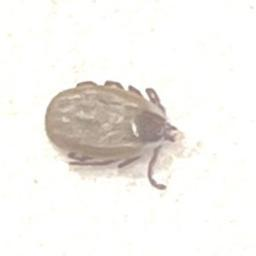Rhipicephalus sanguineus: (44, 80, 176, 191)
